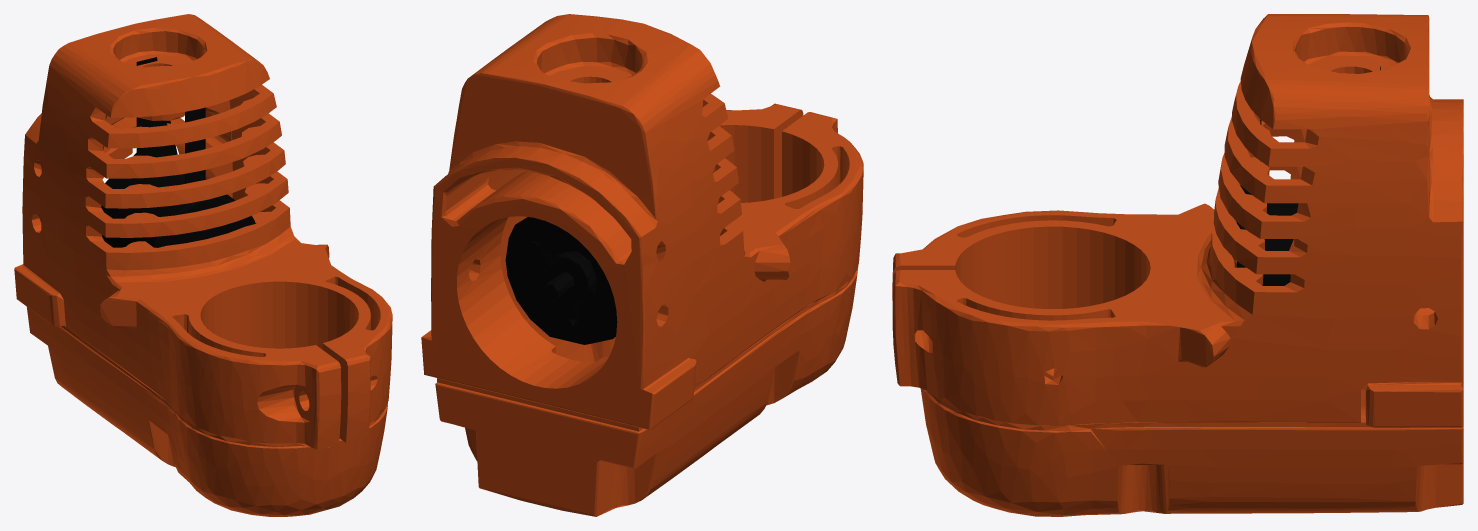
The model's file is arm_joint_4.dae.
3 views of the same model, side by side, from view 1: azimuth 30°, elevation 25°; view 2: azimuth 150°, elevation 25°; view 3: azimuth 270°, elevation 25° (orthographic). The views are drawn at different scales.
Parts seen in each view (by area): view 1: arm_joint_4; view 2: arm_joint_4; view 3: arm_joint_4.
Part boxes in pixels (<box>): arm_joint_4: <box>14,14,392,516</box>; arm_joint_4: <box>421,14,863,516</box>; arm_joint_4: <box>892,14,1463,516</box>.
Bounding box in the file's own units: 0.0669 × 0.1168 × 0.0987.
